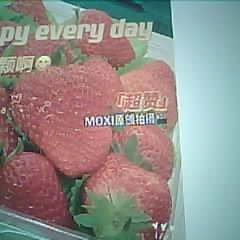straw-ripe: (10, 60, 116, 176)
